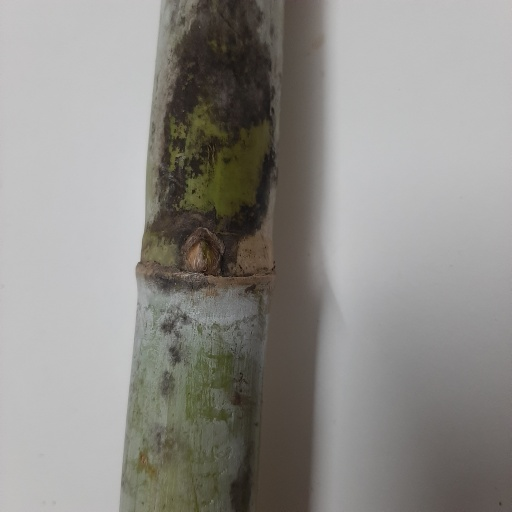Bud: (180, 233, 220, 276)
